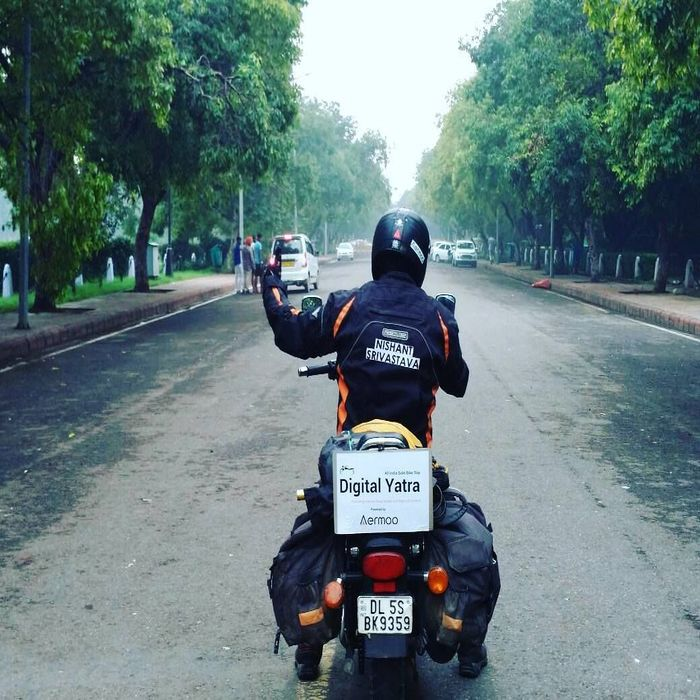h: (370, 210, 431, 280)
n: (355, 593, 415, 636)
